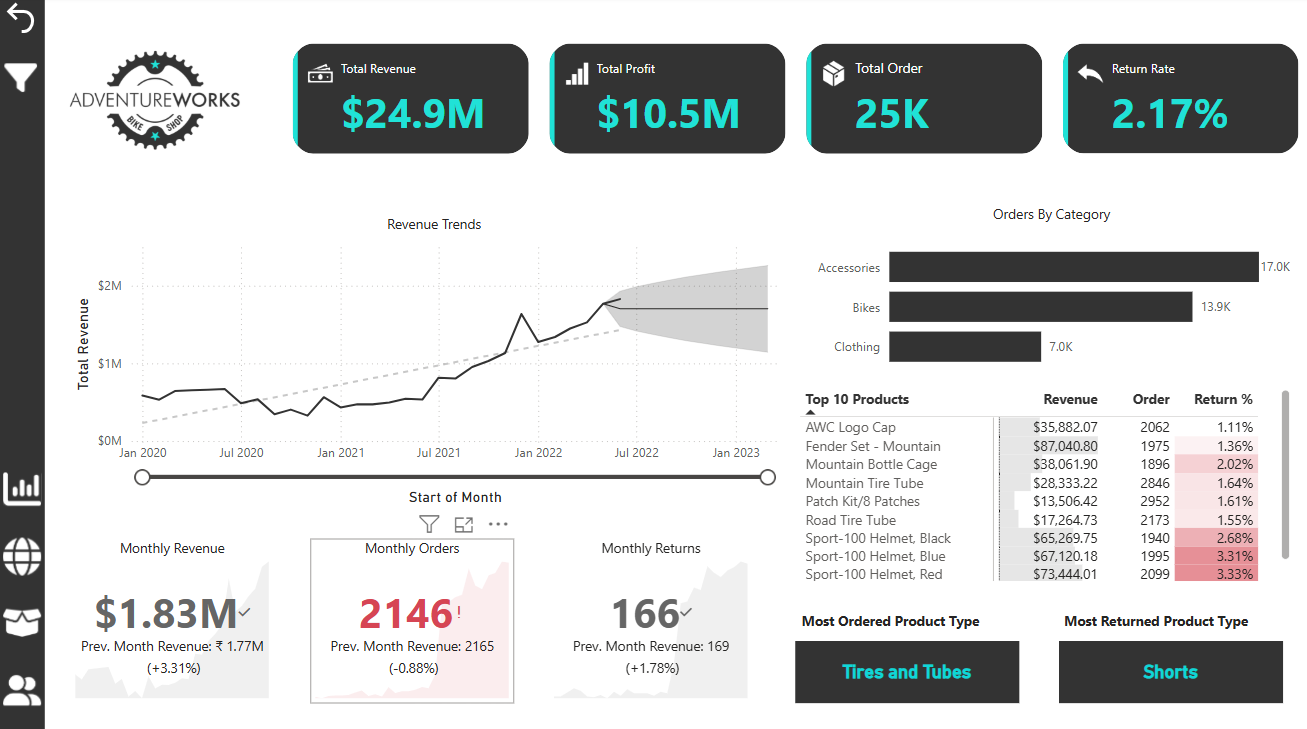

The page's visual inventory and layout, read from the dashboard file:
{"tool":"powerbi","page":{"name":"Executive Dashboard","canvas":[1280,720],"ordinal":0},"visuals":[{"type":"image","title":"AW Logo","box":[46.5,0,212.8,204.2],"z":0},{"type":"shape","title":"Left Navigation","box":[0,0,45,719.7],"z":1000},{"type":"lineChart","title":"Revenue Trends","fields":{"Y":["Measure Table.Total Revenue"],"Category":["Calendar Lookup.Year","Calendar Lookup.Start of Quarter","Calendar Lookup.Start of Month"]},"box":[69.7,214,711.7,288.6],"z":2000},{"type":"kpi","title":"Monthly Revenue","fields":{"Indicator":["Measure Table.Total Revenue"],"TrendLine":["Calendar Lookup.Start of Month"],"Goal":["Measure Table.Previous Month Revenue"]},"box":[69.7,530.7,199.3,161.4],"z":3000},{"type":"kpi","title":"Monthly Orders","fields":{"TrendLine":["Calendar Lookup.Start of Month"],"Indicator":["Measure Table.Total Order"],"Goal":["Measure Table.Previous Month Orders"]},"box":[303.9,530.7,199.3,161.4],"z":4000},{"type":"kpi","title":"Monthly Returns","fields":{"TrendLine":["Calendar Lookup.Start of Month"],"Indicator":["Measure Table.Total Returns"],"Goal":["Measure Table.Previous Month Returns"]},"box":[538,530.7,199.3,161.4],"z":5000},{"type":"barChart","title":"Orders By Category","fields":{"Category":["Product Categories Lookup.CategoryName"],"Y":["Measure Table.Total Order"]},"box":[791.2,204.2,476.9,176.1],"z":6000},{"type":"pivotTable","fields":{"Values":["Measure Table.Total Revenue","Measure Table.Total Order","Measure Table.Return Rate"],"Rows":["Product Lookup.ProductName"]},"box":[778.9,380.3,489.1,196.9],"z":7000},{"type":"card","fields":{"Values":["Min(Product Subcategories Lookup.SubcategoryName)"]},"box":[778.9,631,218.9,61.1],"z":8000},{"type":"textbox","box":[780.2,596.7,216.4,35.5],"z":9000},{"type":"card","fields":{"Values":["Min(Product Subcategories Lookup.SubcategoryName)"]},"box":[1037,631,218.9,61.1],"z":10000},{"type":"textbox","box":[1037,596.7,216.4,35.5],"z":11000},{"type":"actionButton","box":[1.2,1.2,45.2,40.4],"z":12000},{"type":"actionButton","box":[0,457.3,45.2,50.1],"z":13000},{"type":"actionButton","box":[0,588.6,45.2,50.1],"z":14000},{"type":"actionButton","box":[0,654.2,45.2,50.1],"z":15000},{"type":"actionButton","box":[0,523,45.2,50.1],"z":16000},{"type":"actionButton","box":[1.2,59.9,45.2,40.4],"z":17000},{"type":"cardVisual","fields":{"Data":["Measure Table.Total Revenue","Measure Table.Total Profit","Measure Table.Total Order","Measure Table.Return Rate"]},"box":[282.5,41.6,995.4,118.6],"z":19000}]}

Visuals, with their boxes on the page's 1280x720 design canvas (x1, y1, x2, y2). These are canvas units, not pixel positions in the 1307x729 screenshot, which may show the page scaled, cropped or inside an application window:
"AW Logo" image: {"x1": 46, "y1": 0, "x2": 259, "y2": 204}
"Left Navigation" shape: {"x1": 0, "y1": 0, "x2": 45, "y2": 720}
"Revenue Trends" lineChart: {"x1": 70, "y1": 214, "x2": 781, "y2": 503}
"Monthly Revenue" kpi: {"x1": 70, "y1": 531, "x2": 269, "y2": 692}
"Monthly Orders" kpi: {"x1": 304, "y1": 531, "x2": 503, "y2": 692}
"Monthly Returns" kpi: {"x1": 538, "y1": 531, "x2": 737, "y2": 692}
"Orders By Category" barChart: {"x1": 791, "y1": 204, "x2": 1268, "y2": 380}
pivotTable - Measure Table.Total Revenue x Measure Table.Total Order: {"x1": 779, "y1": 380, "x2": 1268, "y2": 577}
card - Min(Product Subcategories Lookup.SubcategoryName): {"x1": 779, "y1": 631, "x2": 998, "y2": 692}
textbox: {"x1": 780, "y1": 597, "x2": 997, "y2": 632}
card - Min(Product Subcategories Lookup.SubcategoryName): {"x1": 1037, "y1": 631, "x2": 1256, "y2": 692}
textbox: {"x1": 1037, "y1": 597, "x2": 1253, "y2": 632}
actionButton: {"x1": 1, "y1": 1, "x2": 46, "y2": 42}
actionButton: {"x1": 0, "y1": 457, "x2": 45, "y2": 507}
actionButton: {"x1": 0, "y1": 589, "x2": 45, "y2": 639}
actionButton: {"x1": 0, "y1": 654, "x2": 45, "y2": 704}
actionButton: {"x1": 0, "y1": 523, "x2": 45, "y2": 573}
actionButton: {"x1": 1, "y1": 60, "x2": 46, "y2": 100}
cardVisual - Measure Table.Total Revenue x Measure Table.Total Profit: {"x1": 282, "y1": 42, "x2": 1278, "y2": 160}
